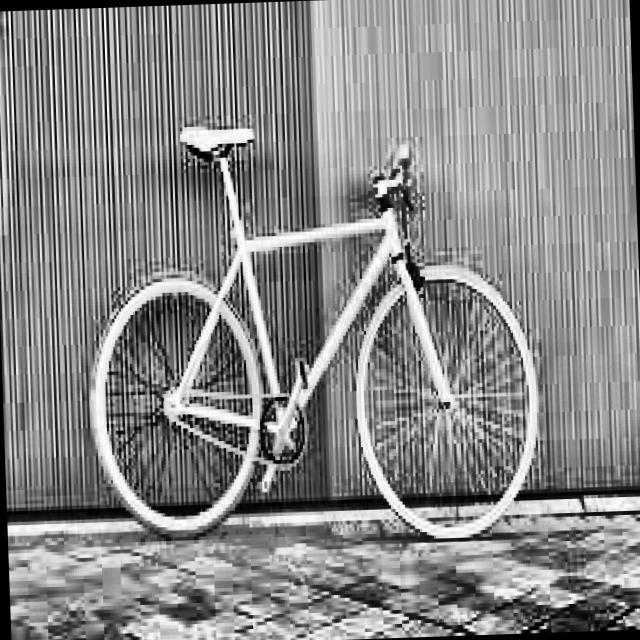bicycle: (69, 107, 548, 566)
